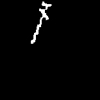double_crochet: (31, 2, 50, 42)
